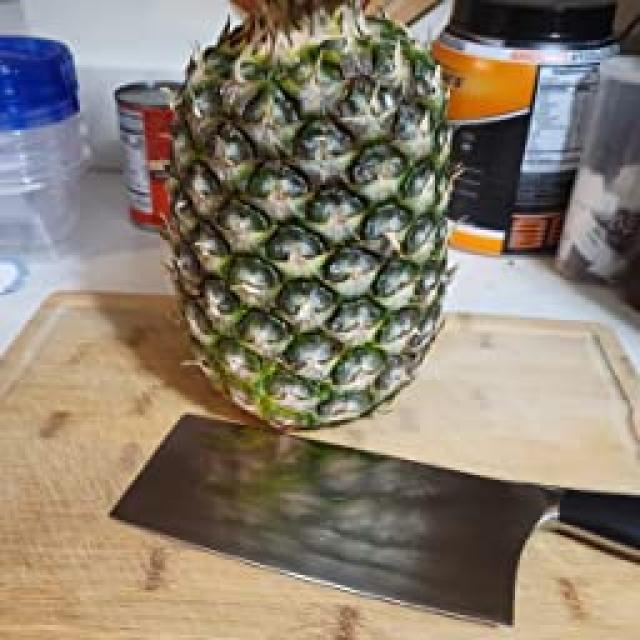cleaver: (107, 410, 640, 616)
